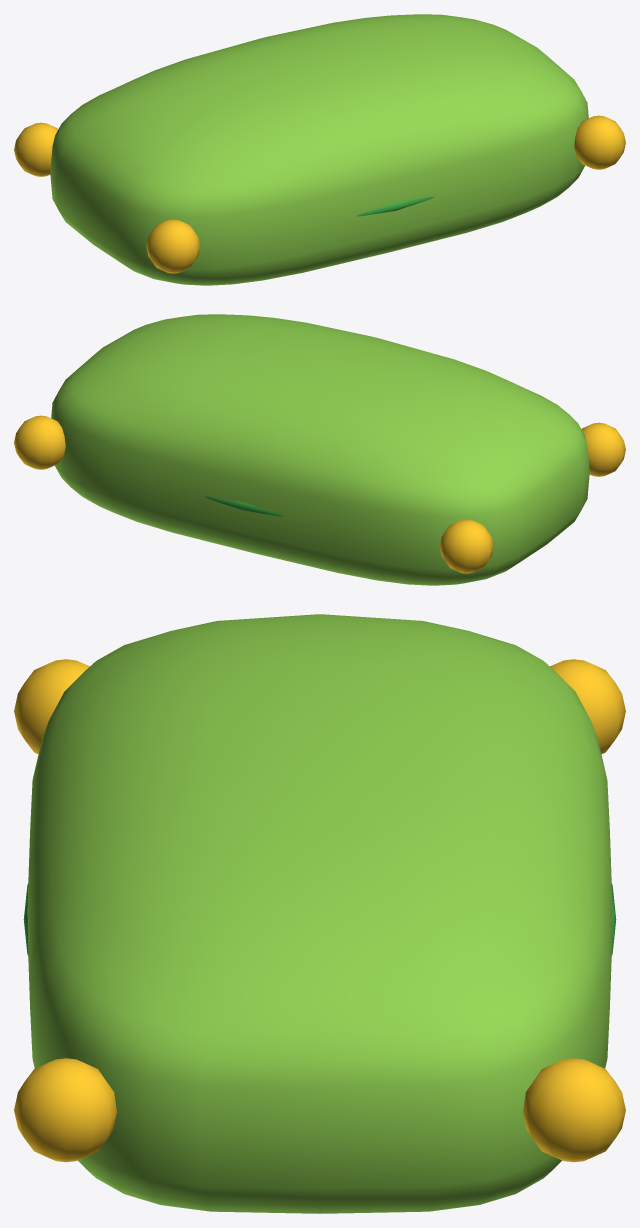
The model's file is cushion.glb.
The picture shows the model from 3 angles, top to bottom: view 1: azimuth 30°, elevation 25°; view 2: azimuth 150°, elevation 25°; view 3: azimuth 270°, elevation 25°; orthographic projection. The views are drawn at different scales.
Parts seen in each view (by area): view 1: Body; view 2: Body; view 3: Body.
Part boxes in pixels (x1,y1,x2,y2): Body: [14, 14, 625, 285]; Body: [14, 314, 625, 585]; Body: [14, 614, 625, 1213].
Size of the model in its own units: 3.22 by 1.05 by 1.88.
